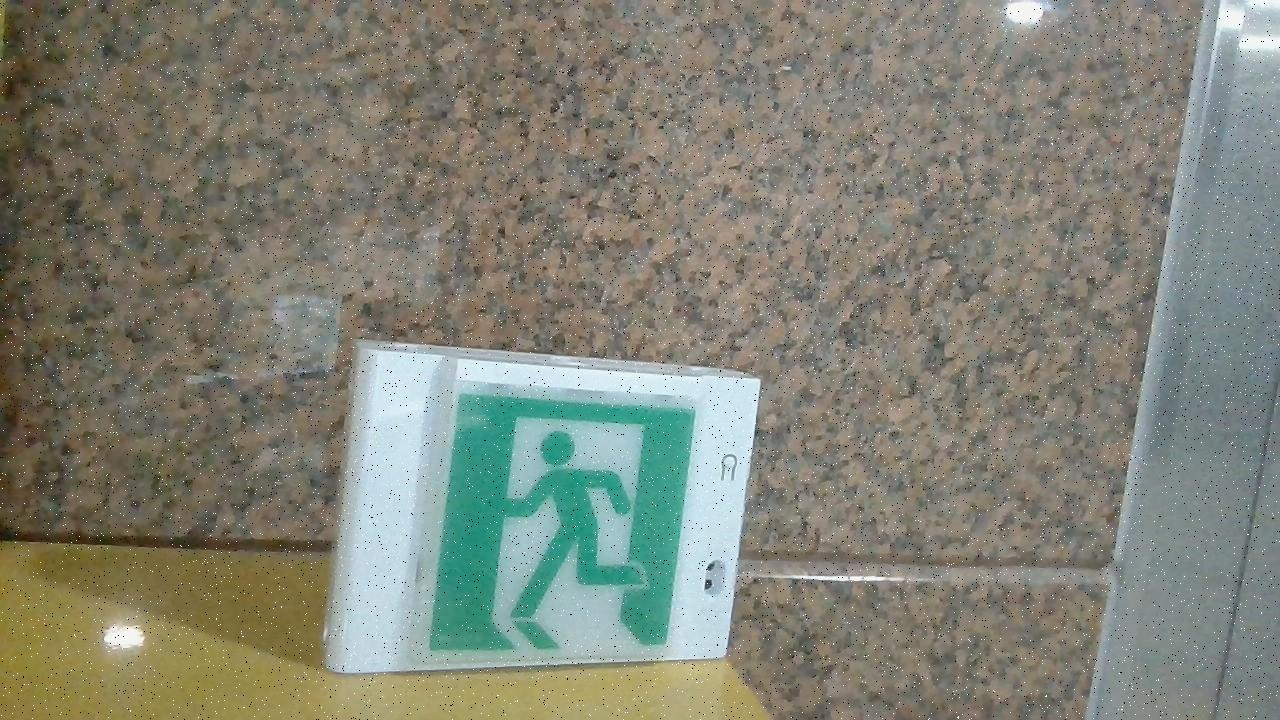emergency_exit: (323, 337, 762, 675)
